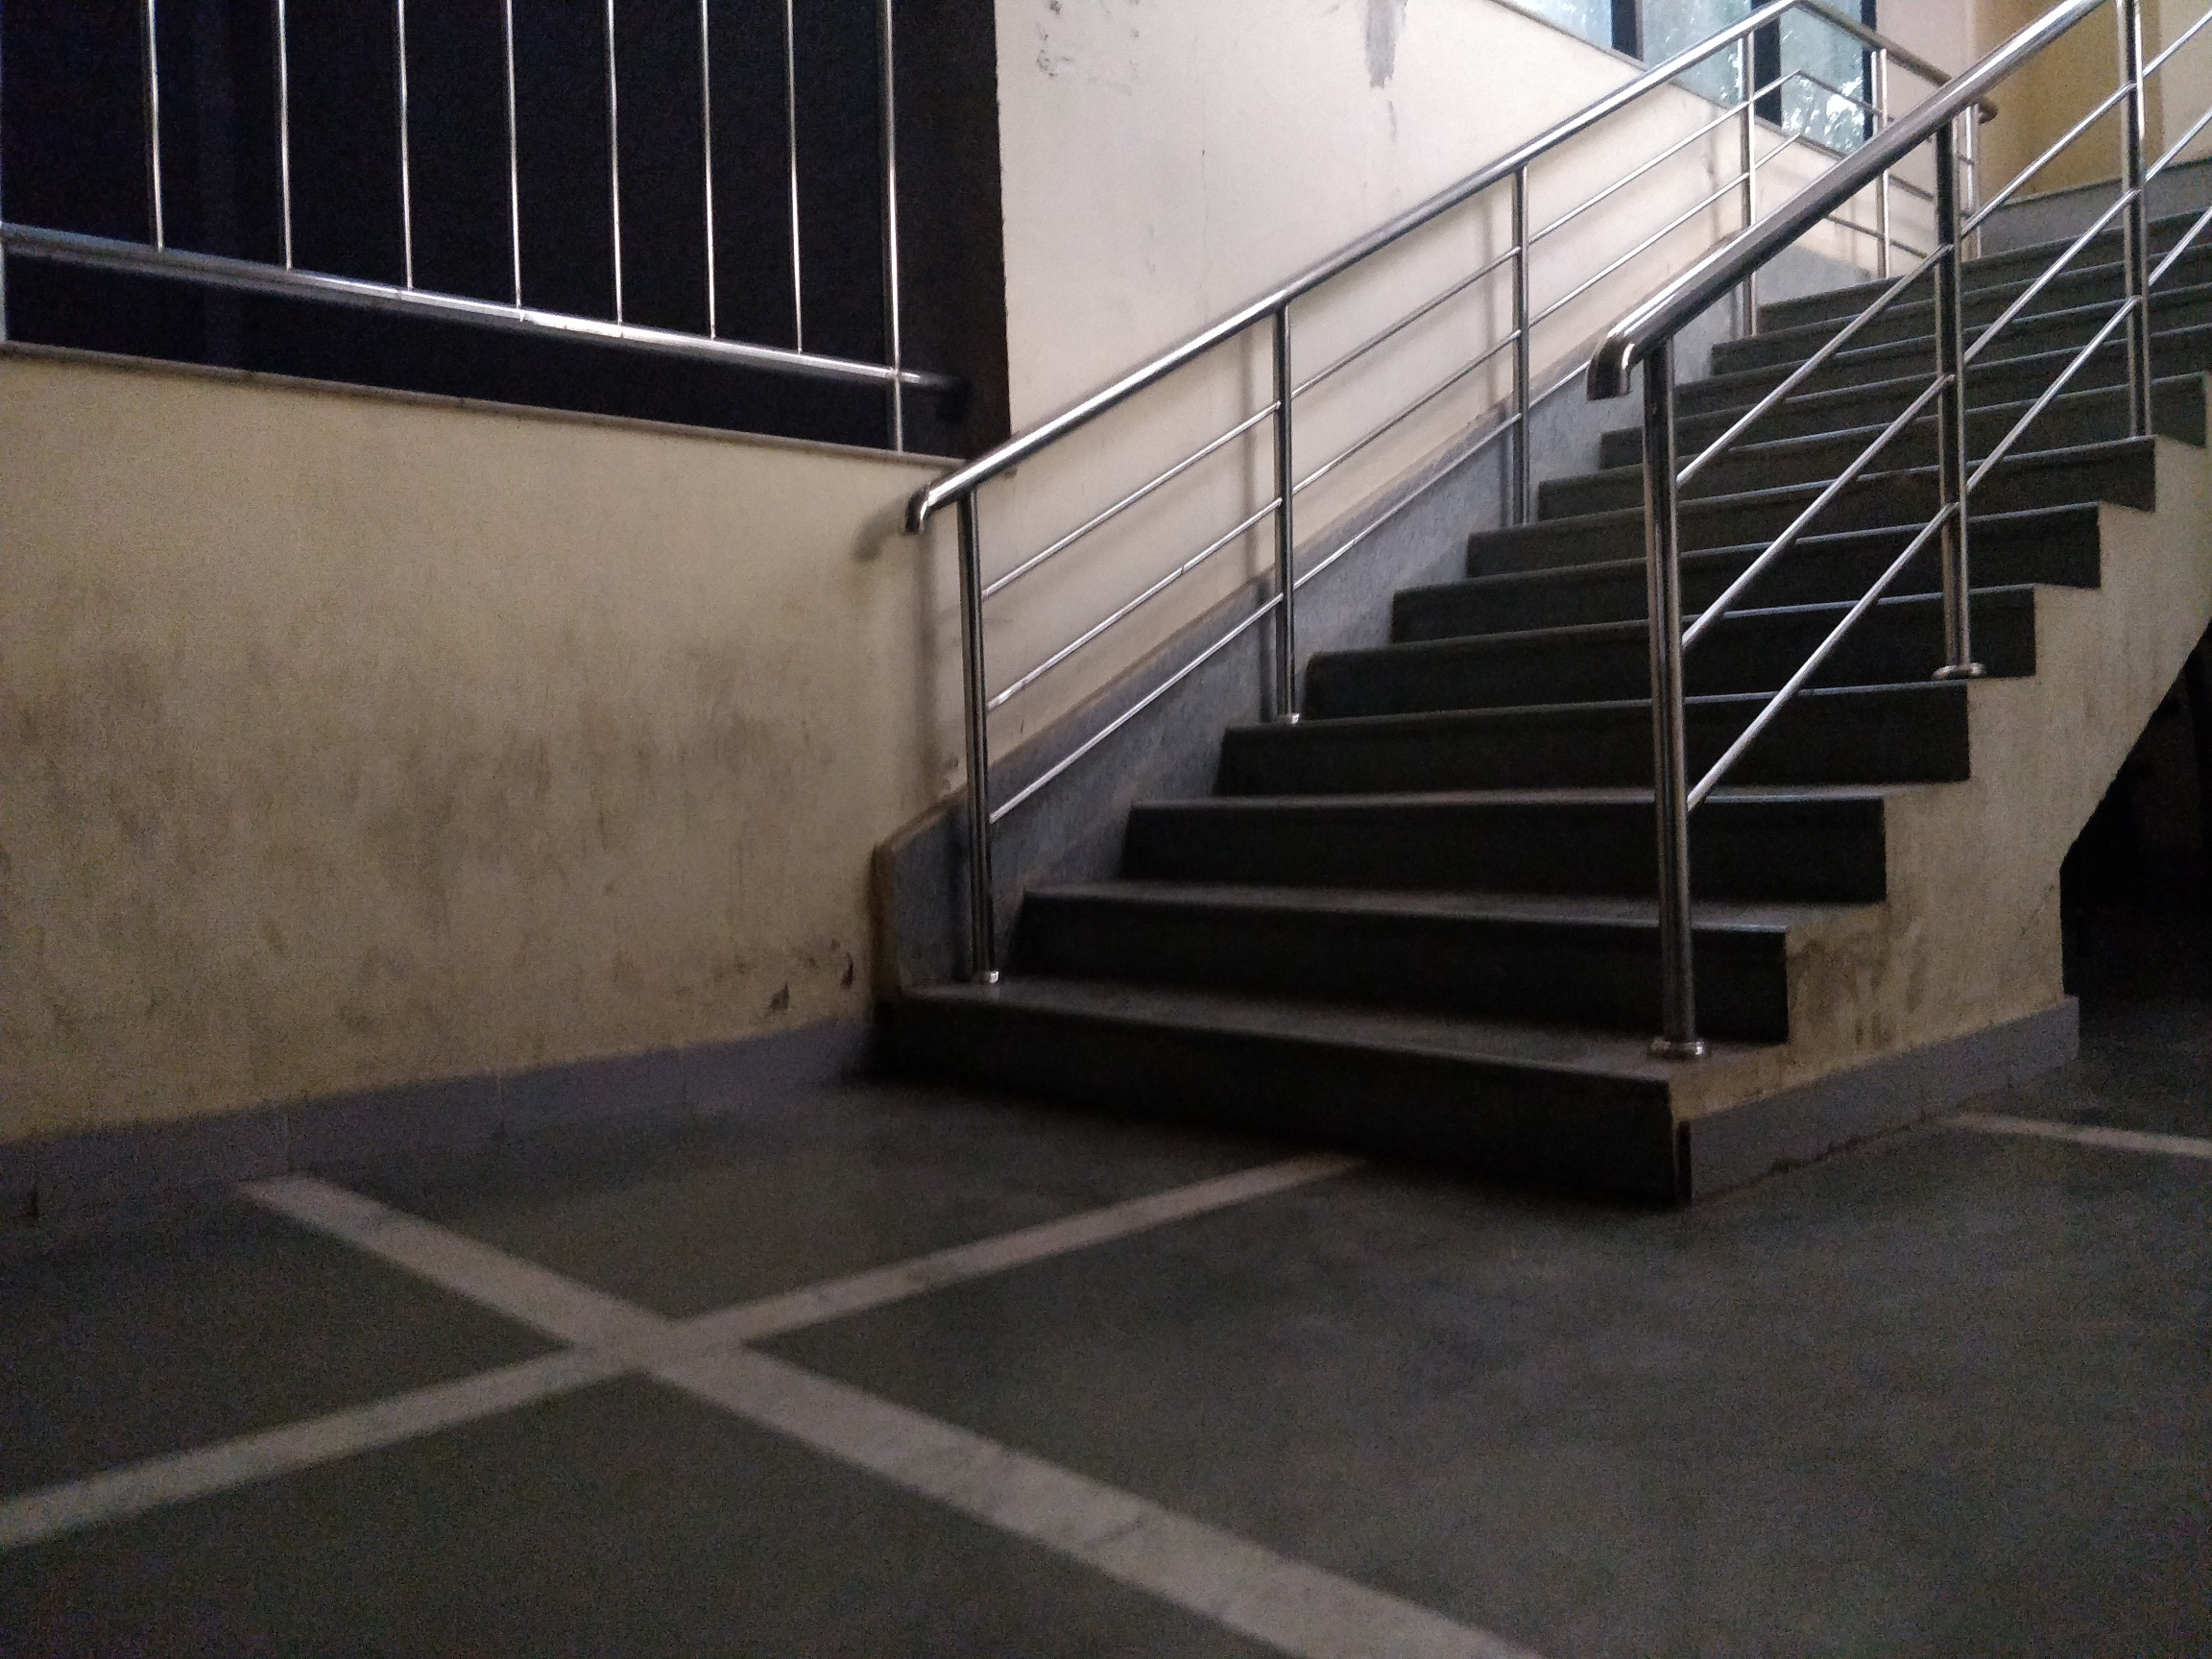stairs_up: (974, 174, 2175, 1134)
